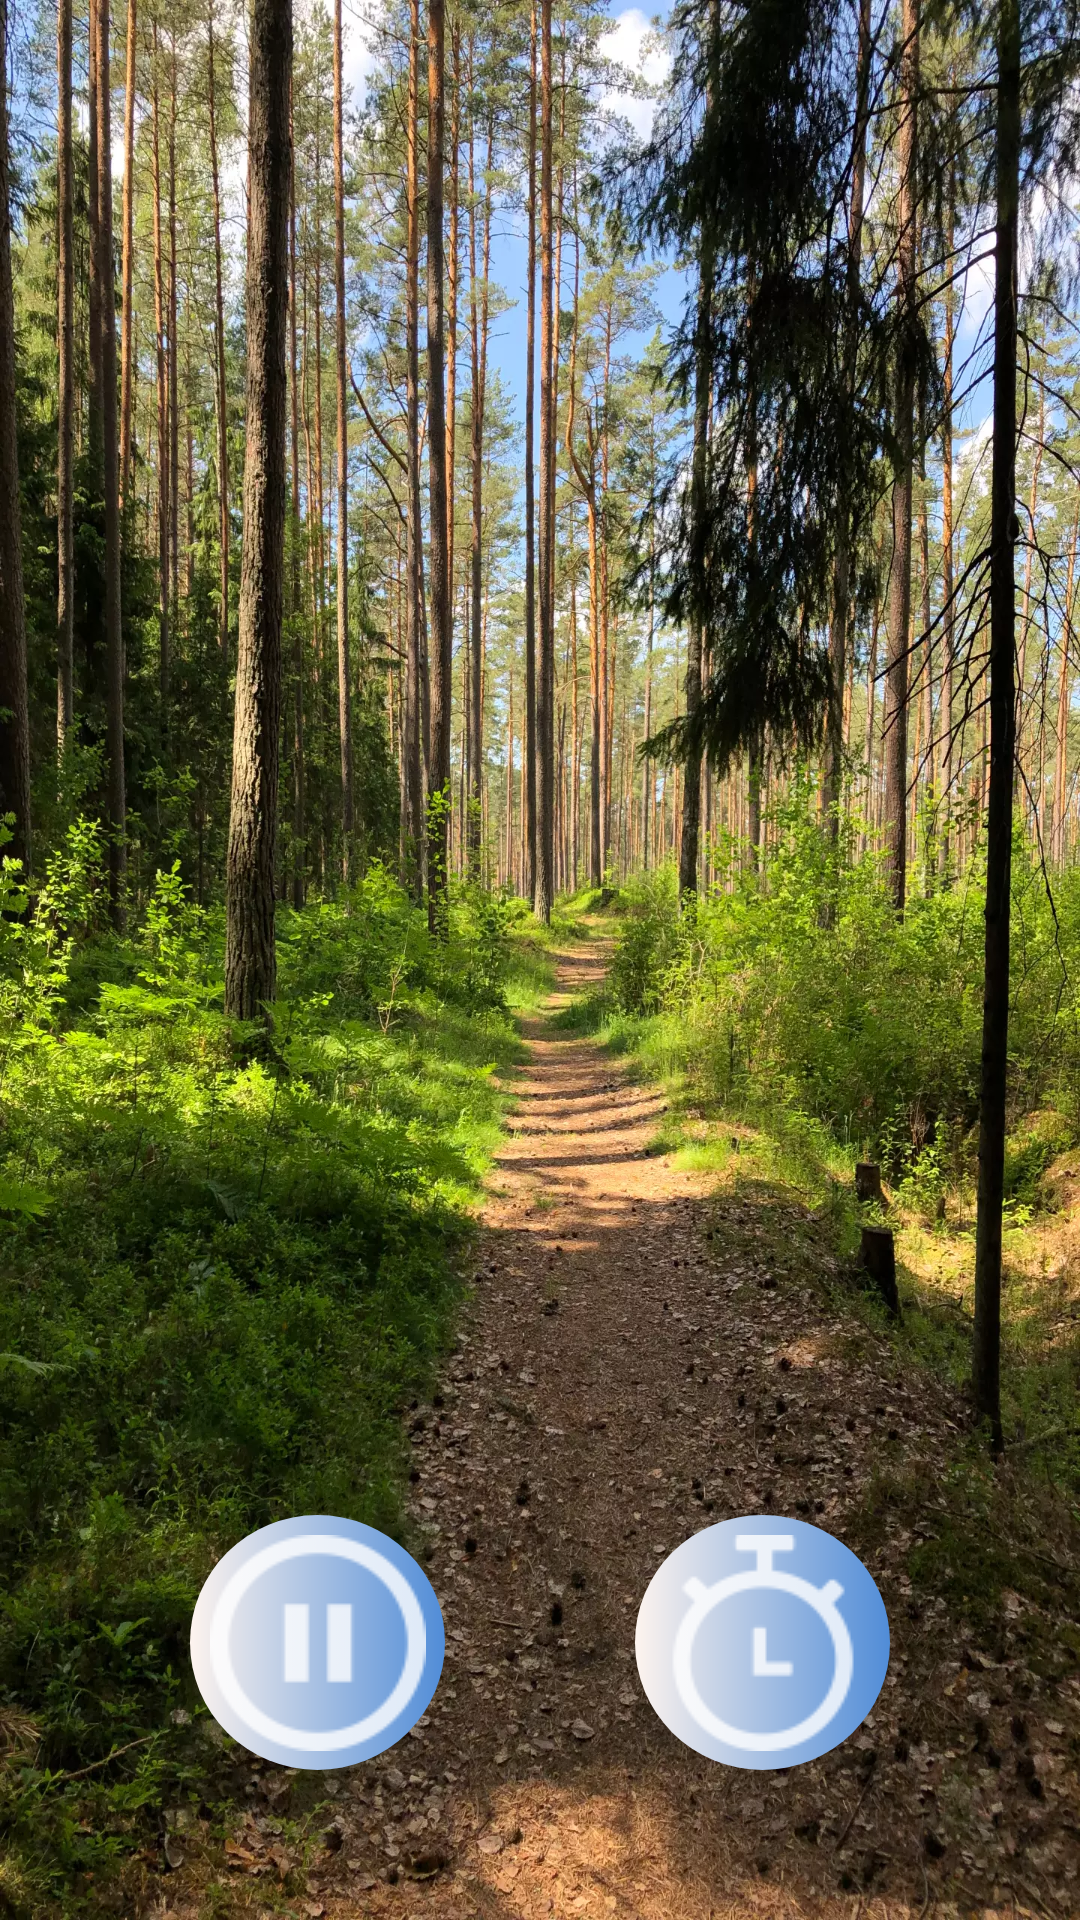

Icons on this 1080 × 1920 Android screen, each with the point to tap as [x,y]:
pause: [317,1642]
timer: [762,1642]
